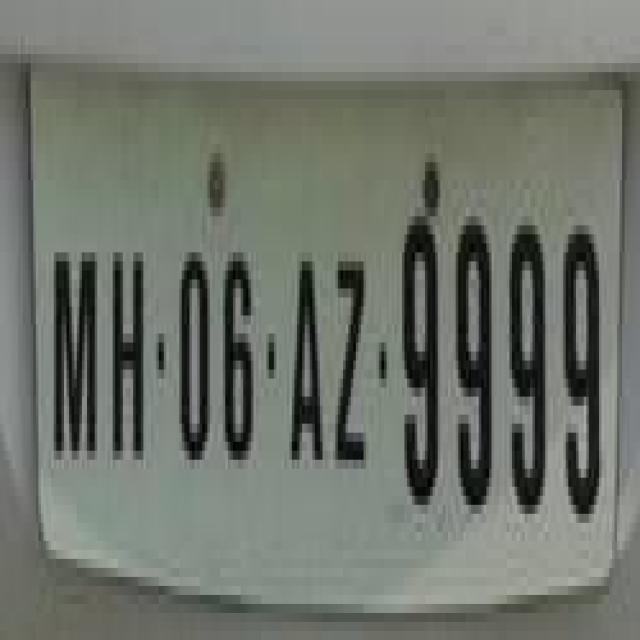license_plate: (18, 54, 640, 631)
